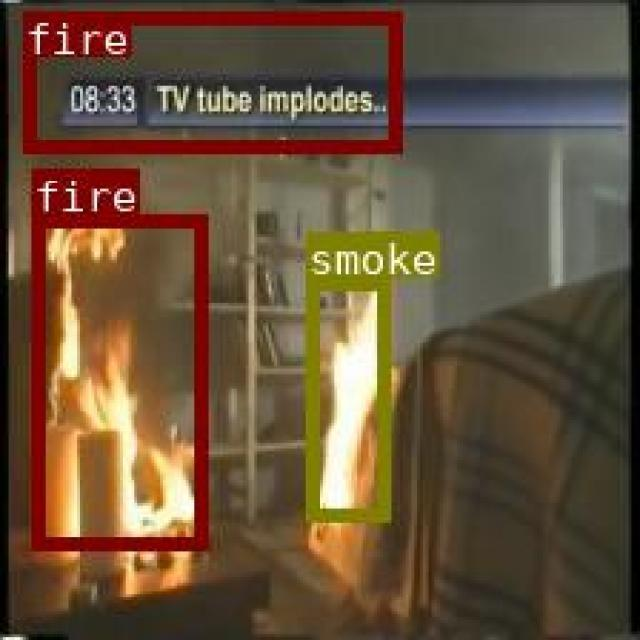fire: (31, 214, 205, 547), (21, 9, 398, 151)
smoke: (304, 276, 387, 520)
